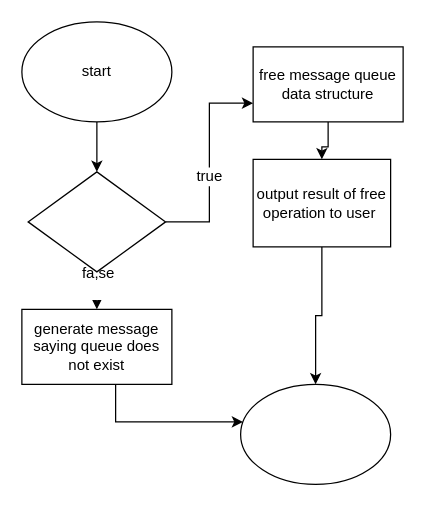
Image size: 425x506. Some labels were removed from this diagram. Here are the shapes that lost their labels. From the top down, the centre of each, then its label:
point 96,221: check queue exist
point 315,433: stop
